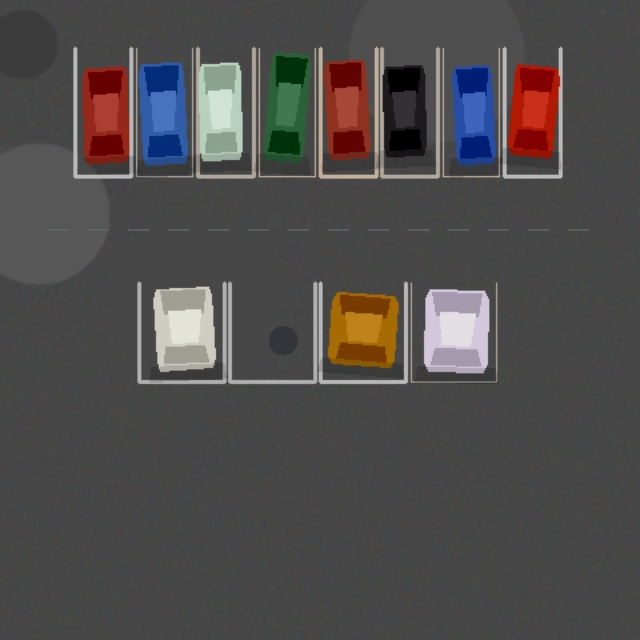space-empty: (229, 283, 315, 381)
space-occupied: (139, 283, 224, 381), (320, 283, 405, 381), (411, 283, 496, 381), (75, 48, 131, 176), (136, 48, 192, 176), (197, 48, 253, 176), (259, 48, 315, 176), (320, 48, 376, 176), (381, 48, 437, 176), (443, 48, 499, 176), (504, 48, 560, 176)
